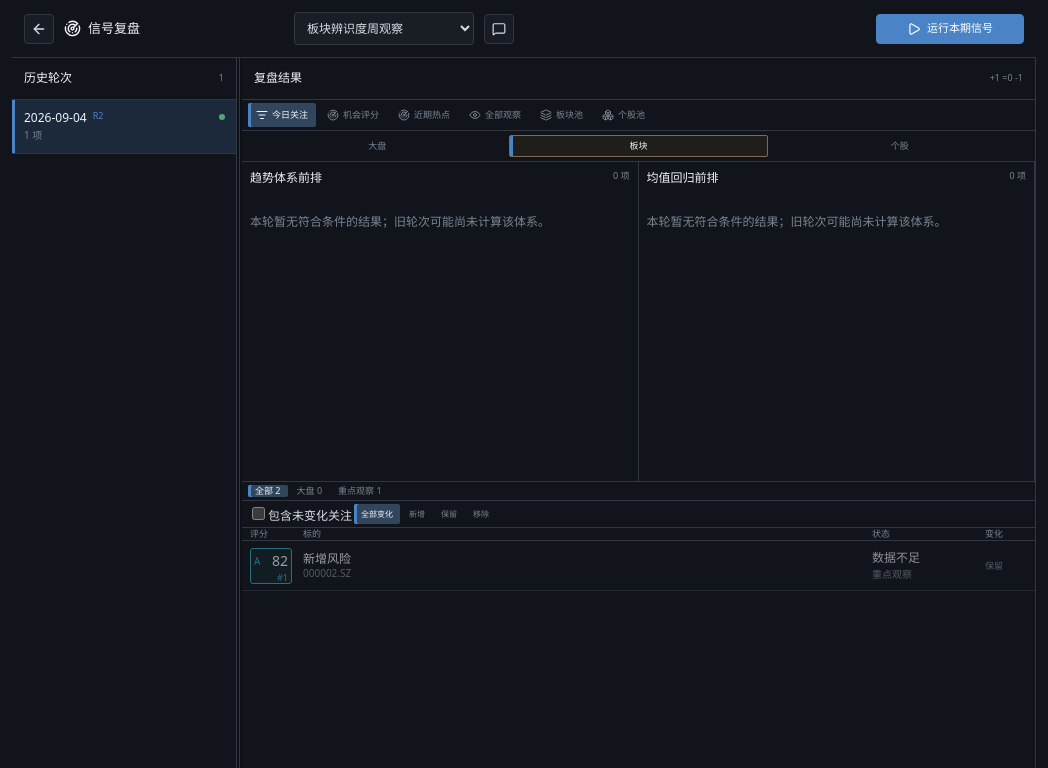
Test: SignalReviewWorkspace › collapses unchanged daily attention without hiding new risks or deleting history
Check: the text "新增风险" is shown, box [303,551,351,567]
Check: the text "旧关注" is not shown
Click the checkbox labelled "包含未变化关注".
click(258, 514)  # box [252,507,265,520]
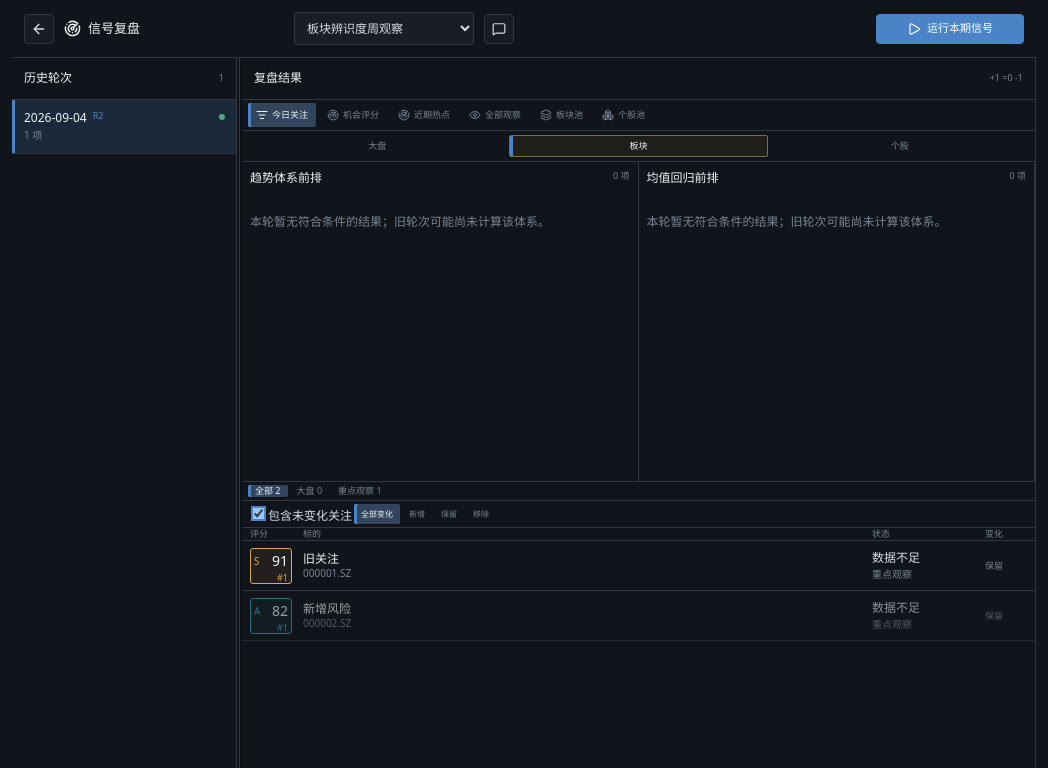
Check: the text "旧关注" is shown, box [303,551,339,567]
